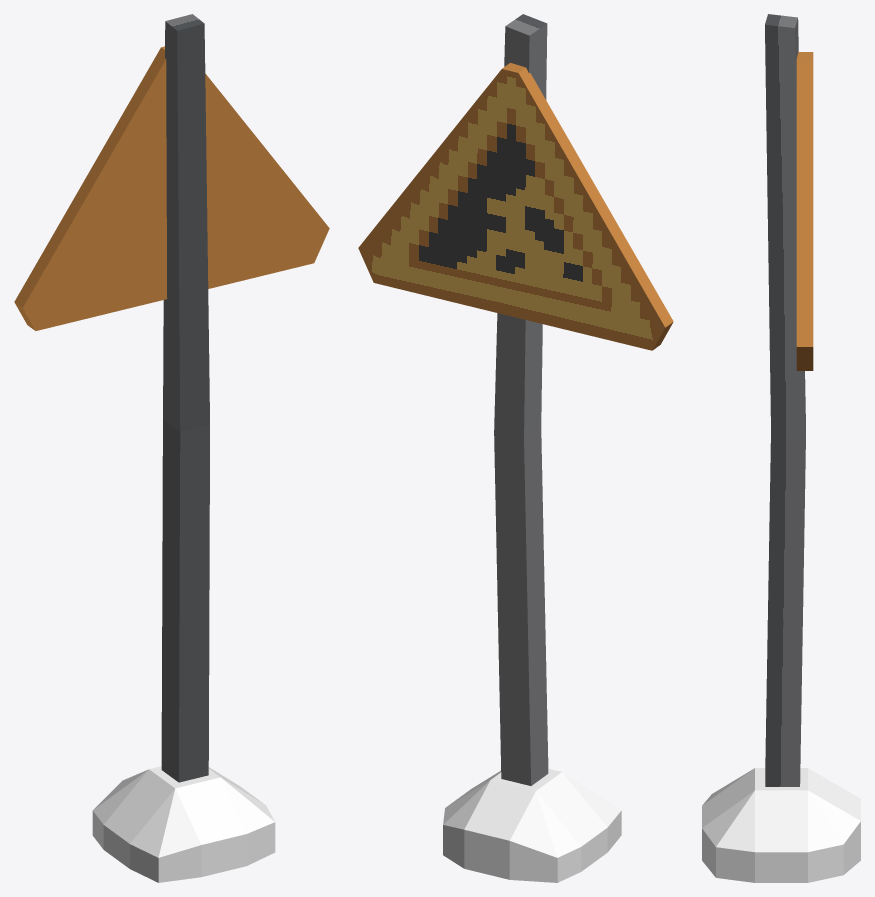
File: sign2.glb
3 renders of one model, left to right at view 1: azimuth 30°, elevation 25°; view 2: azimuth 150°, elevation 25°; view 3: azimuth 270°, elevation 25°, orthographic.
Visible parts, largest first — view 1: Cube, Cube.002; view 2: Cube.002, Cube; view 3: Cube, Cube.002.
Part boxes in pixels (<box>): Cube: <box>92,14,275,882</box>; Cube.002: <box>14,46,329,330</box>; Cube.002: <box>358,63,673,350</box>; Cube: <box>443,14,621,882</box>; Cube: <box>702,14,860,882</box>; Cube.002: <box>796,52,813,370</box>.
Size of the model in its own units: 61.91 by 158 by 27.49.
1 material, 1 textured.
